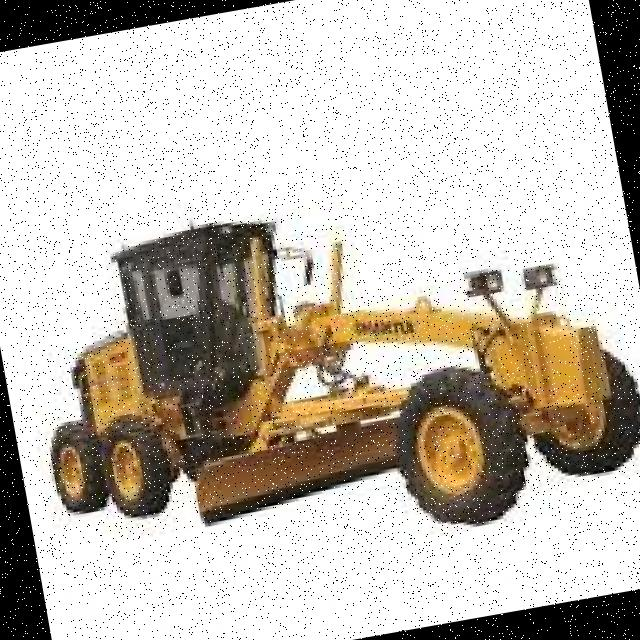Grader: (0, 130, 640, 609)
